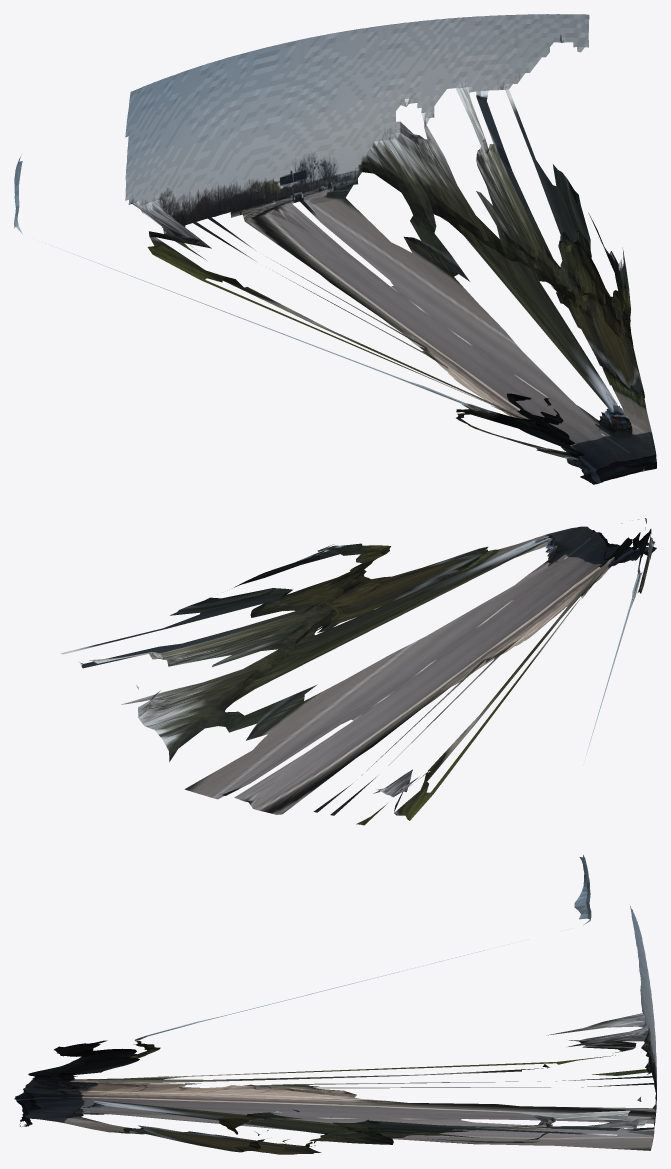
3 renders of one model, top to bottom at view 1: azimuth 30°, elevation 25°; view 2: azimuth 150°, elevation 25°; view 3: azimuth 270°, elevation 25°, orthographic. The views are drawn at different scales.
Visible parts, largest first — view 1: defaultobject; view 2: defaultobject; view 3: defaultobject.
Boxes of the visible parts, x1,y1,x2,y2 form: defaultobject: (14,14,656,484); defaultobject: (60,518,656,825); defaultobject: (14,855,656,1154).
Size of the model in its own units: 40.72 by 11.71 by 44.78.
Materials: 1 (1 with a texture image).
